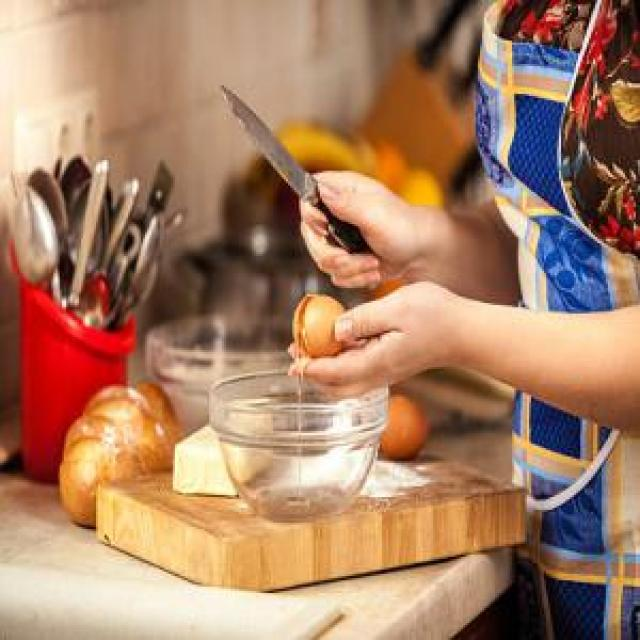knife: (218, 83, 376, 253)
